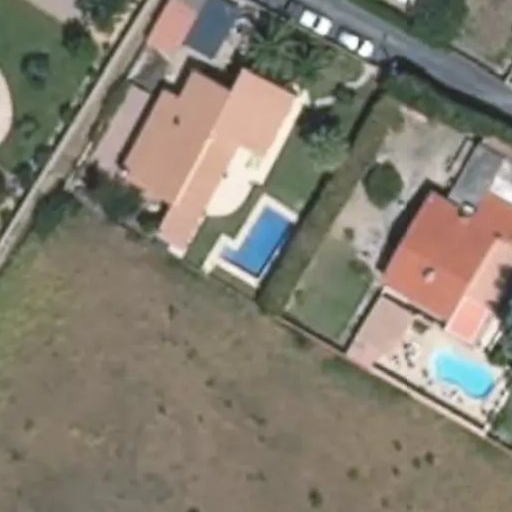pool: (216, 207, 296, 279), (433, 346, 496, 397)
